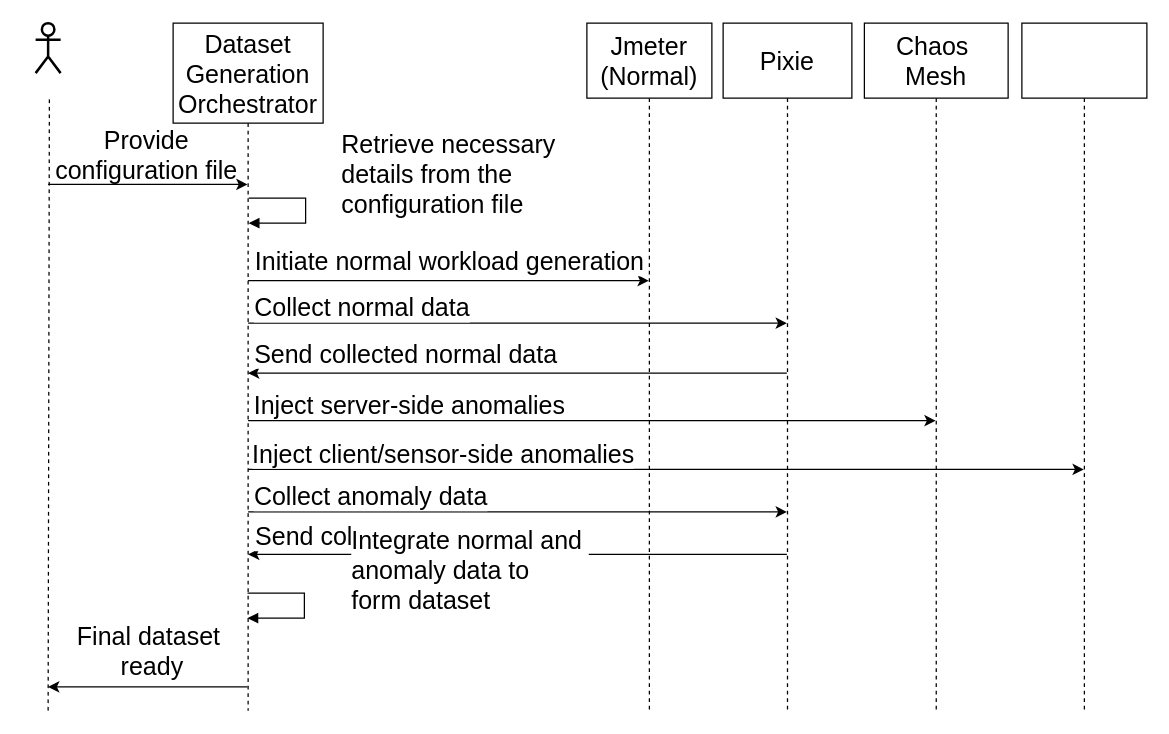
The diagram is 1169 pixels wide and 734 high, and some of its shapes have lost their labels. The box of each missing label's shape, as (x1, y1, x2, y2) in pixels:
Jmeter (Anomaly): (1021, 22, 1147, 711)
User: (34, 21, 61, 74)
